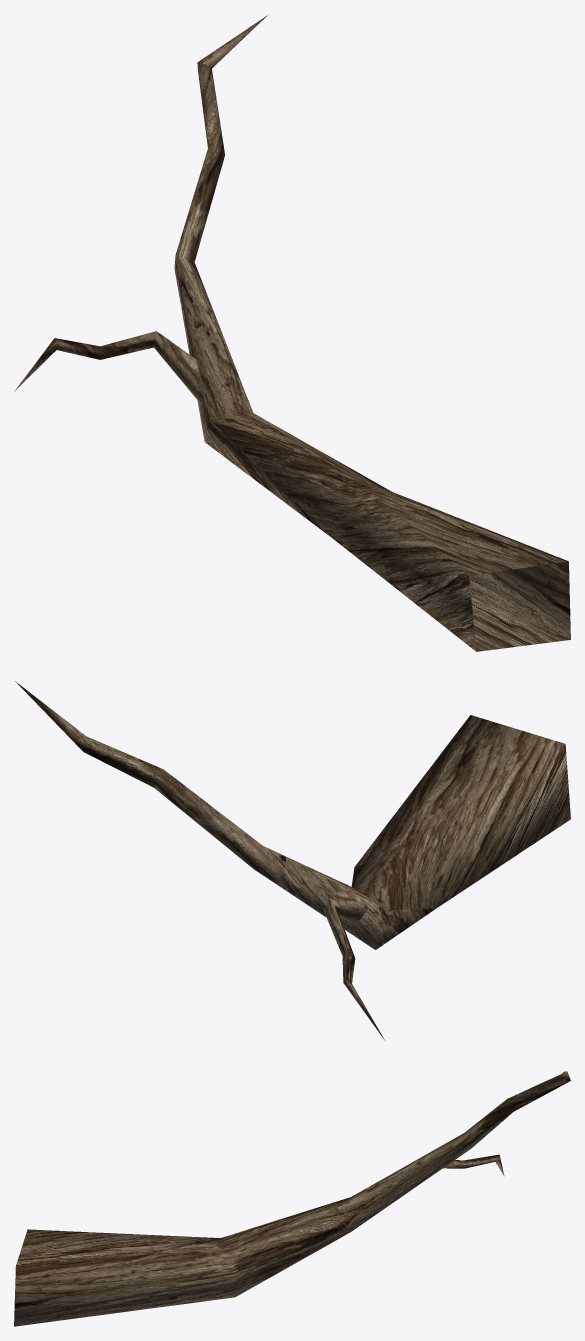
The model's file is MEP_DTree_01.fbx.
3 views of the same model, one above another, from view 1: azimuth 30°, elevation 25°; view 2: azimuth 150°, elevation 25°; view 3: azimuth 270°, elevation 25° (orthographic). The views are drawn at different scales.
Visible parts, largest first — view 1: MEP_DTree_01; view 2: MEP_DTree_01; view 3: MEP_DTree_01.
Part boxes in pixels (x1,y1,x2,y2): MEP_DTree_01: [14, 15, 570, 651]; MEP_DTree_01: [15, 681, 570, 1041]; MEP_DTree_01: [14, 1071, 570, 1326].
Size of the model in its own units: 2.69 by 3.1 by 5.7.
